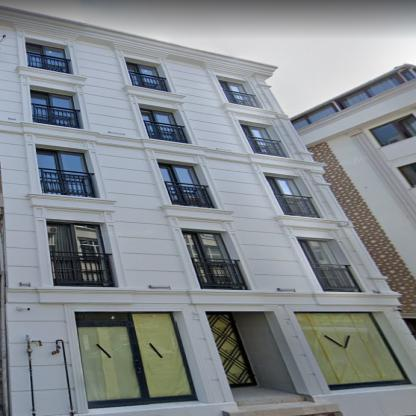door: (209, 314, 255, 384)
window: (80, 313, 200, 405), (298, 312, 410, 387), (291, 69, 414, 128), (48, 220, 105, 281), (183, 230, 240, 286), (35, 148, 96, 196), (302, 240, 352, 286), (31, 91, 79, 128), (269, 176, 311, 214), (162, 165, 205, 201), (24, 40, 70, 72), (369, 113, 415, 144), (142, 110, 184, 140), (242, 125, 280, 155), (128, 60, 166, 87), (222, 80, 256, 104), (397, 162, 414, 186)
